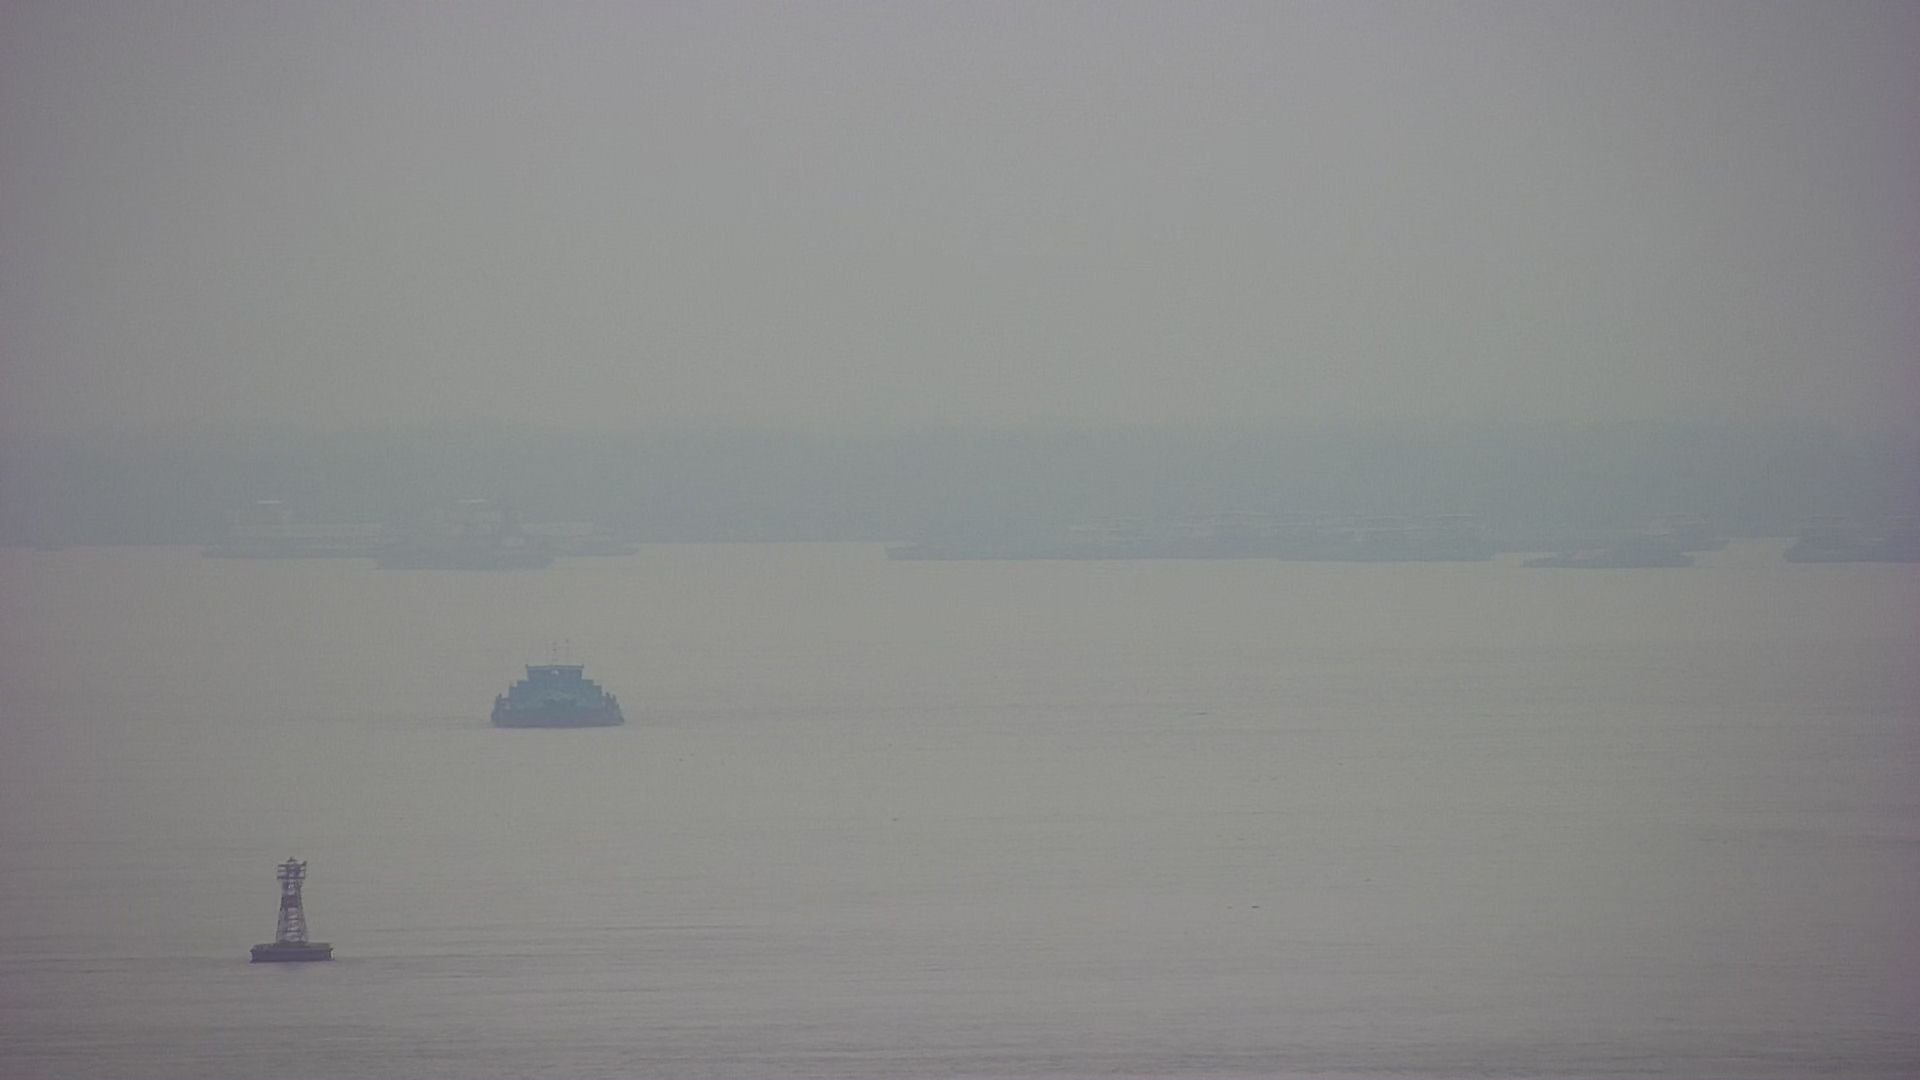buoy: (248, 852, 340, 968)
ship: (491, 655, 630, 731)
